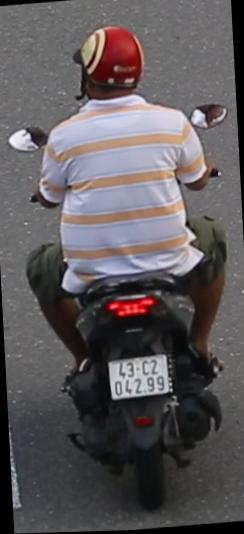LP: (106, 352, 172, 405)
helmet: (67, 20, 149, 110)
